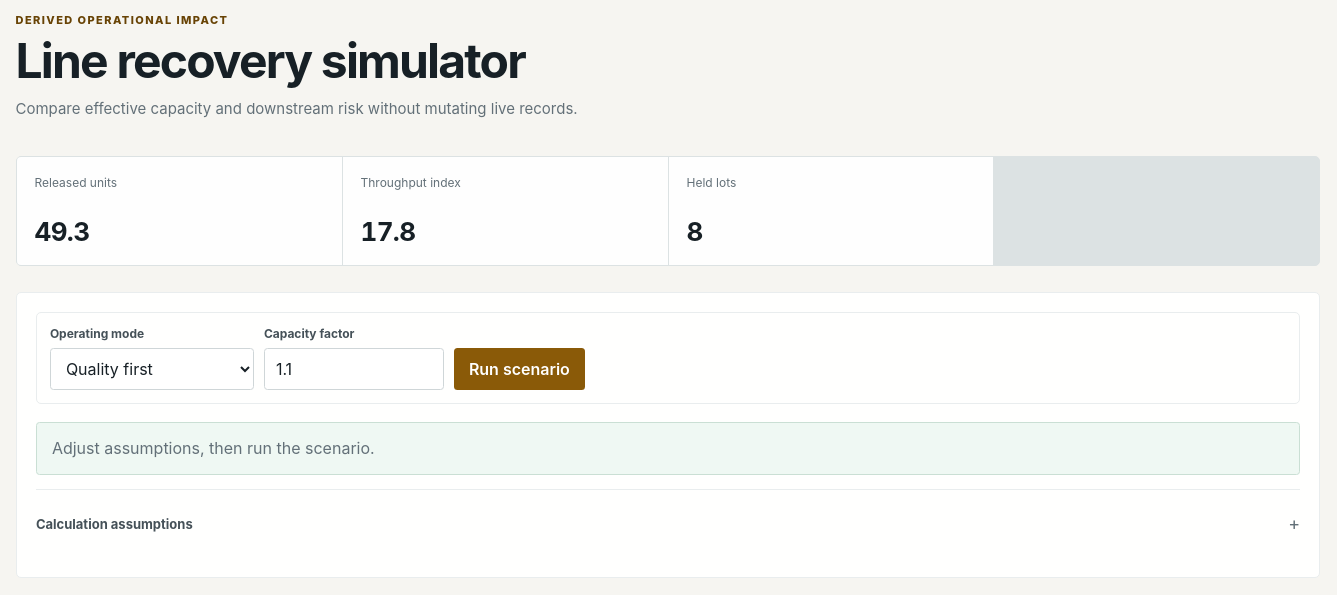
FactoryOS connected surfaces › runs a deterministic scenario asynchronously
The width and height of the screenshot is (1337, 595).
Click the button "Run scenario" at (519, 369), box [454, 348, 585, 390]
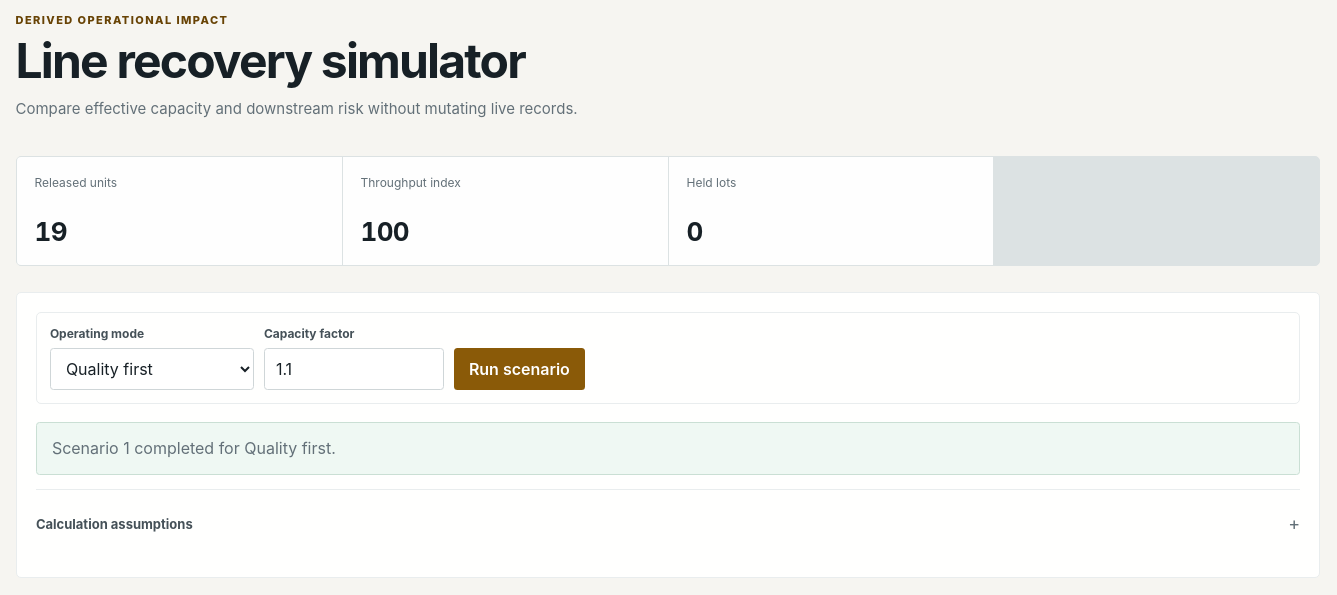
Now the message shows "completed", box [52, 438, 336, 458]
